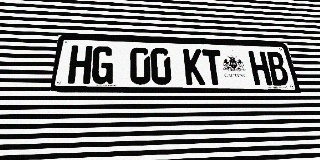0: (150, 48, 172, 85), (130, 47, 151, 84)
B: (265, 51, 290, 85)
G: (91, 46, 114, 84)
H: (67, 45, 93, 84), (248, 51, 272, 85)
K: (183, 49, 205, 85)
T: (202, 49, 225, 85)
